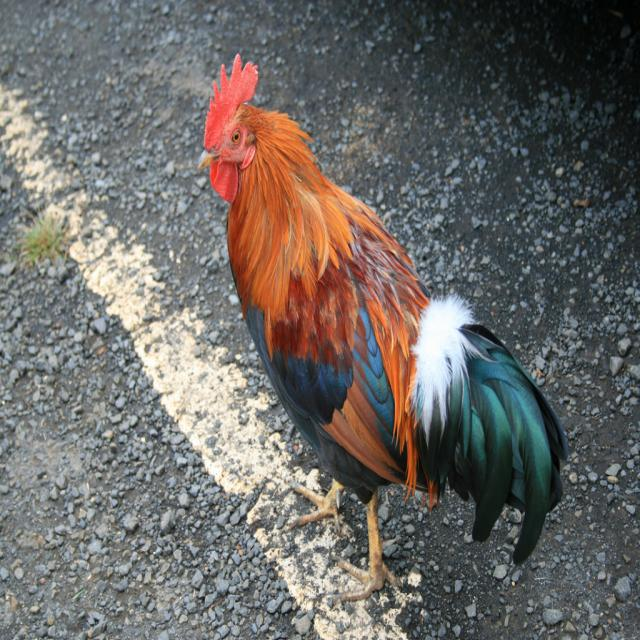Chicken: (206, 39, 569, 612)
